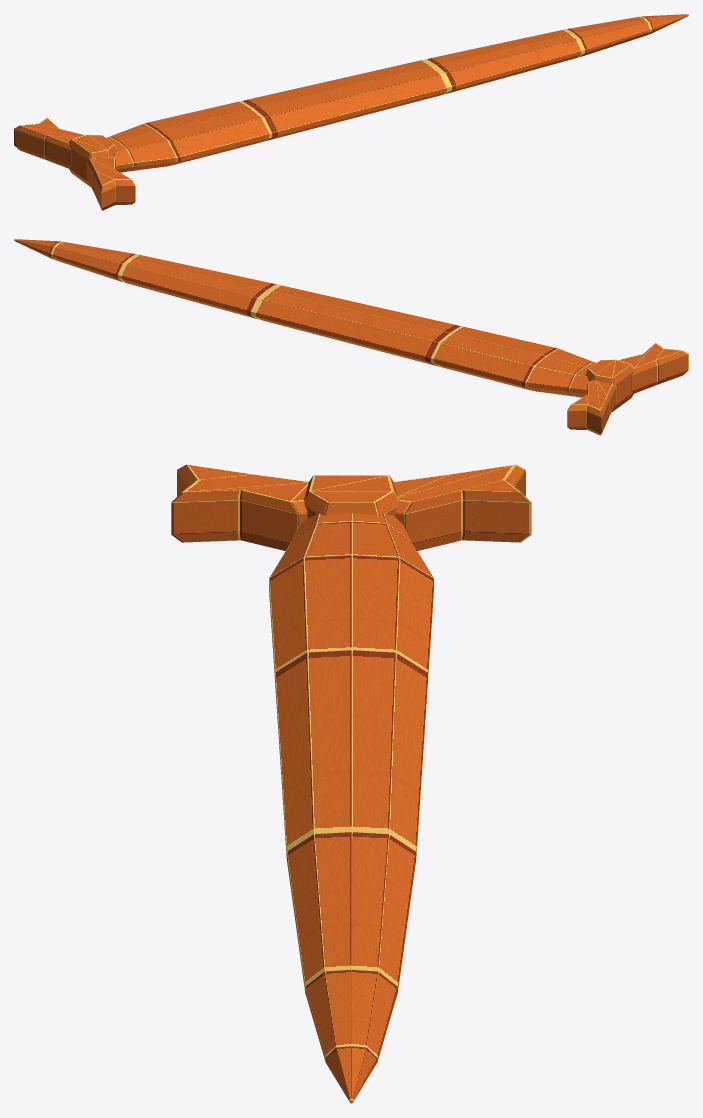
Rendered from bench_guiyan_sword_1_hot.obj.
The picture shows the model from 3 angles, top to bottom: view 1: azimuth 30°, elevation 25°; view 2: azimuth 150°, elevation 25°; view 3: azimuth 270°, elevation 25°; orthographic projection. The views are drawn at different scales.
Parts seen in each view (by area): view 1: geometry; view 2: geometry; view 3: geometry.
Boxes of the visible parts, x1,y1,x2,y2 form: geometry: (14,14,688,210); geometry: (14,239,688,435); geometry: (171,464,531,1103).
Size of the model in its own units: 0.75 by 0.0384 by 0.1854.
